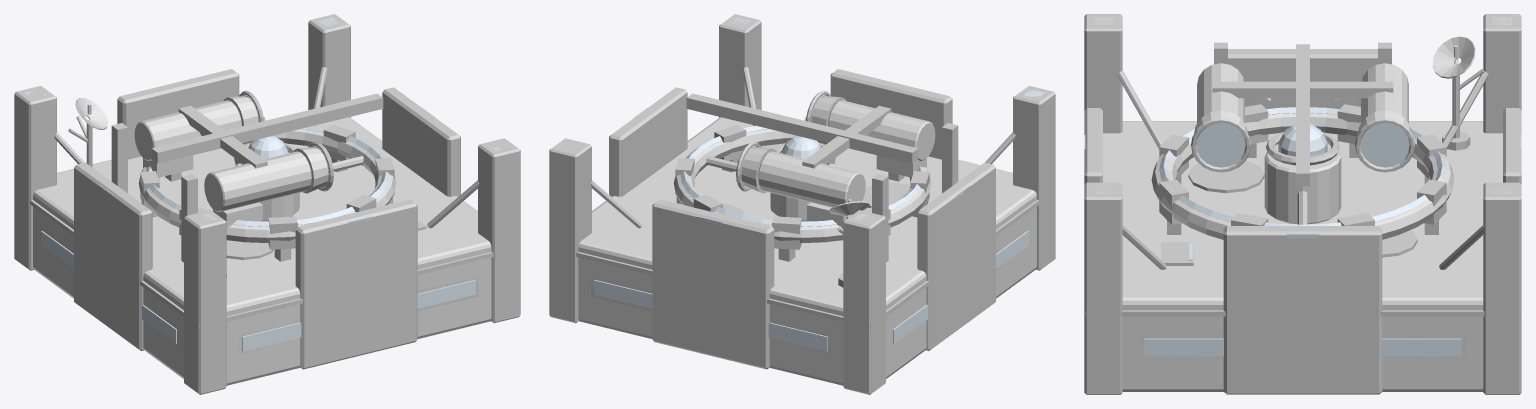
The model's file is SM_StationModule_IonPropulsionLab_01.fbx.
3 renders of one model, left to right at view 1: azimuth 30°, elevation 25°; view 2: azimuth 150°, elevation 25°; view 3: azimuth 270°, elevation 25°, orthographic. The views are drawn at different scales.
Visible parts, largest first — view 1: SM_StationModule_IonPropulsionLab_01; view 2: SM_StationModule_IonPropulsionLab_01; view 3: SM_StationModule_IonPropulsionLab_01.
Part boxes in pixels (x1=…): SM_StationModule_IonPropulsionLab_01: x1=14, y1=14, x2=520, y2=394; SM_StationModule_IonPropulsionLab_01: x1=549, y1=14, x2=1055, y2=394; SM_StationModule_IonPropulsionLab_01: x1=1084, y1=14, x2=1521, y2=394.
Size of what is drawn, in the model's own units: 800 by 800 by 400.
